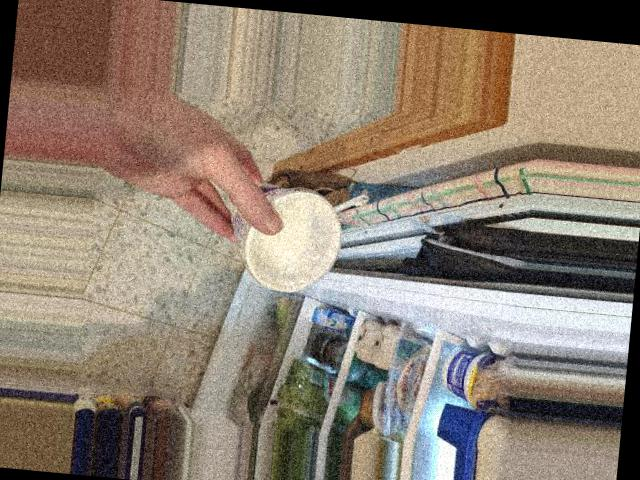cotage: (222, 181, 352, 287)
